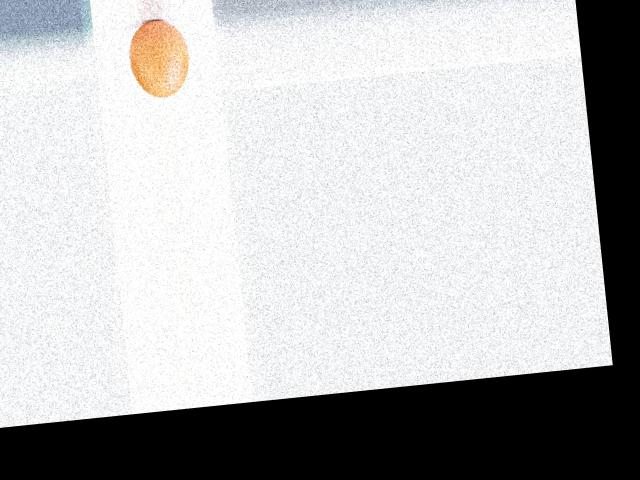egg: (125, 17, 192, 99)
